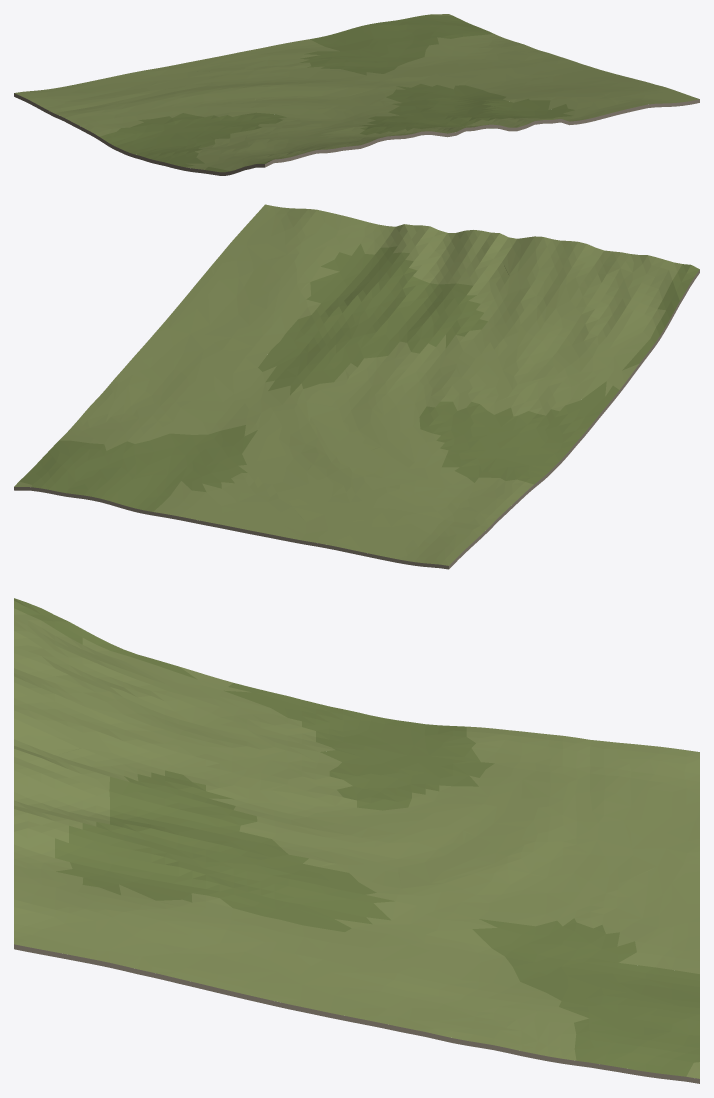
File: parca_+8_-4-uzak.glb
3 renders of one model, top to bottom at view 1: azimuth 30°, elevation 25°; view 2: azimuth 150°, elevation 25°; view 3: azimuth 270°, elevation 25°, orthographic. The views are drawn at different scales.
Visible parts, largest first — view 1: parca_+8_-4_arazi_uzak; view 2: parca_+8_-4_arazi_uzak; view 3: parca_+8_-4_arazi_uzak.
Boxes of the visible parts, left/top/right/bottom form: parca_+8_-4_arazi_uzak: left=14, top=14, right=699, bottom=175; parca_+8_-4_arazi_uzak: left=14, top=204, right=699, bottom=569; parca_+8_-4_arazi_uzak: left=14, top=598, right=699, bottom=1083.
Size of the model in its own units: 1000 by 320 by 1000.
